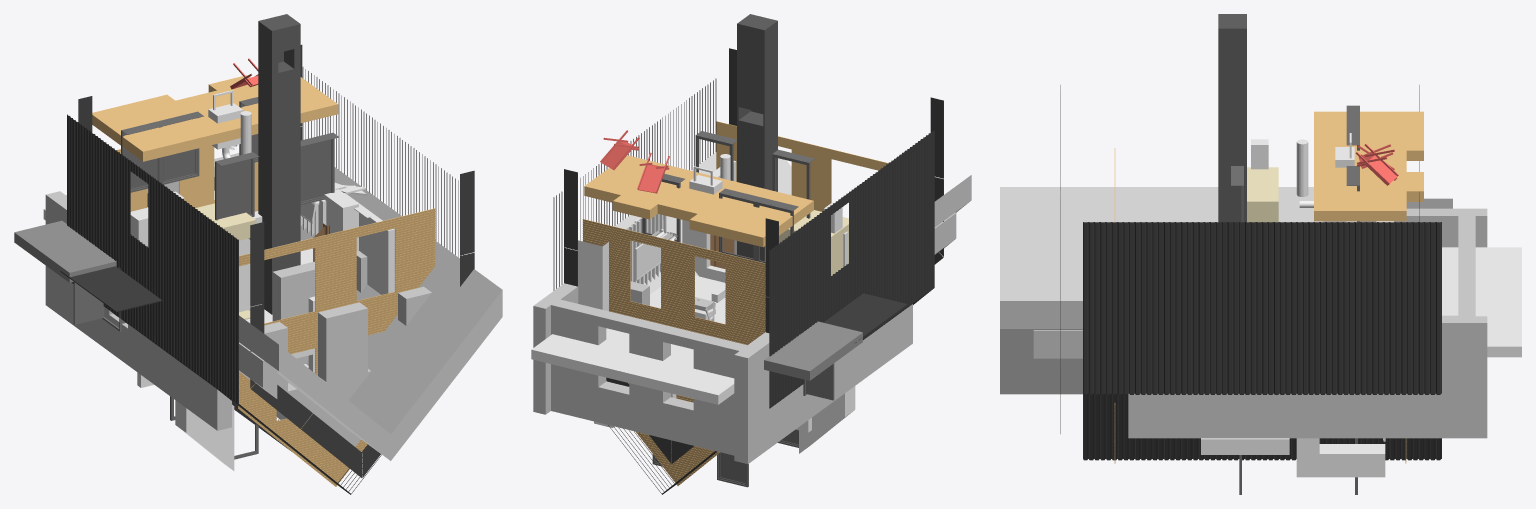
File: sceneModel.glb
The picture shows the model from 3 angles, left to right: view 1: azimuth 30°, elevation 25°; view 2: azimuth 150°, elevation 25°; view 3: azimuth 270°, elevation 25°; orthographic projection. The views are drawn at different scales.
Parts seen in each view (by area): view 1: 99260302-b0a7-456f-85a6-fb982b88d1a1-mesh, 0197eafc-e0ff-4db0-b68a-3e2a630b7ba2-mesh, c4d5aaa9-8ef5-4154-a091-b7c374bec363-mesh, 532b09c1-0b94-4078-bb71-db59570a901e-mesh, 7a5df23f-b428-478b-bbaa-a96873e01a14-mesh, b4df87d6-3772-4753-9082-eddefc3663ae-mesh, 3f2d3408-c7ef-4b01-b802-100f06b8bb19-mesh, 537720ed-e754-4e56-968a-f27afc7a2a49-mesh, 4531894a-d4ad-48d6-9331-40f6b8a79a5e-mesh, 868a3703-1643-471e-8c52-c947335a4aea-mesh, a4a708a8-24d3-4564-8d3f-7106817e1c34-mesh, 4e35cf4d-0585-422a-a061-535be9715bb8-mesh (+9 smaller); view 2: 7a5df23f-b428-478b-bbaa-a96873e01a14-mesh, 99260302-b0a7-456f-85a6-fb982b88d1a1-mesh, c4d5aaa9-8ef5-4154-a091-b7c374bec363-mesh, b4df87d6-3772-4753-9082-eddefc3663ae-mesh, dc739e76-78ab-4a7e-ad85-1664fc1bd726-mesh, 532b09c1-0b94-4078-bb71-db59570a901e-mesh, 537720ed-e754-4e56-968a-f27afc7a2a49-mesh, 4531894a-d4ad-48d6-9331-40f6b8a79a5e-mesh, 7efd10e4-09fc-4e95-b722-4bcb99865384-mesh, 0197eafc-e0ff-4db0-b68a-3e2a630b7ba2-mesh, 27c6b3f6-3c7f-4ba3-8d3f-d47aff3312a7-mesh, 49c594ff-f3fa-475c-b873-3ce18c31230c-mesh (+11 smaller); view 3: 99260302-b0a7-456f-85a6-fb982b88d1a1-mesh, 7a5df23f-b428-478b-bbaa-a96873e01a14-mesh, 0197eafc-e0ff-4db0-b68a-3e2a630b7ba2-mesh, b4df87d6-3772-4753-9082-eddefc3663ae-mesh, dc739e76-78ab-4a7e-ad85-1664fc1bd726-mesh, 532b09c1-0b94-4078-bb71-db59570a901e-mesh, 598083f2-f907-4d4f-aaf4-7f4c93f8e23d-mesh, 3f2d3408-c7ef-4b01-b802-100f06b8bb19-mesh, 2fb21d22-86b5-445f-943f-b92c821052a9-mesh, 5decc759-4af7-4a3a-9977-9a8749e82488-mesh, 24495cec-ef7e-4894-b98d-dda111cccf1a-mesh, d26a2b7e-b58b-46eb-a002-c43009cda0d6-mesh (+1 smaller).
Part boxes in pixels (x1,y1,x2,y2): 99260302-b0a7-456f-85a6-fb982b88d1a1-mesh: [67, 67, 463, 494]; 0197eafc-e0ff-4db0-b68a-3e2a630b7ba2-mesh: [239, 167, 502, 460]; c4d5aaa9-8ef5-4154-a091-b7c374bec363-mesh: [116, 145, 435, 486]; 532b09c1-0b94-4078-bb71-db59570a901e-mesh: [258, 14, 300, 314]; 7a5df23f-b428-478b-bbaa-a96873e01a14-mesh: [45, 153, 367, 430]; b4df87d6-3772-4753-9082-eddefc3663ae-mesh: [92, 75, 338, 161]; 3f2d3408-c7ef-4b01-b802-100f06b8bb19-mesh: [239, 286, 431, 446]; 537720ed-e754-4e56-968a-f27afc7a2a49-mesh: [78, 44, 474, 477]; 4531894a-d4ad-48d6-9331-40f6b8a79a5e-mesh: [14, 220, 116, 282]; 868a3703-1643-471e-8c52-c947335a4aea-mesh: [239, 193, 394, 312]; a4a708a8-24d3-4564-8d3f-7106817e1c34-mesh: [121, 111, 203, 192]; 4e35cf4d-0585-422a-a061-535be9715bb8-mesh: [215, 152, 259, 220]; 7a5df23f-b428-478b-bbaa-a96873e01a14-mesh: [533, 283, 912, 463]; 99260302-b0a7-456f-85a6-fb982b88d1a1-mesh: [553, 78, 934, 494]; c4d5aaa9-8ef5-4154-a091-b7c374bec363-mesh: [582, 121, 888, 485]; b4df87d6-3772-4753-9082-eddefc3663ae-mesh: [584, 155, 813, 247]; dc739e76-78ab-4a7e-ad85-1664fc1bd726-mesh: [531, 275, 734, 404]; 532b09c1-0b94-4078-bb71-db59570a901e-mesh: [737, 14, 777, 261]; 537720ed-e754-4e56-968a-f27afc7a2a49-mesh: [564, 48, 943, 463]; 4531894a-d4ad-48d6-9331-40f6b8a79a5e-mesh: [764, 321, 862, 380]; 7efd10e4-09fc-4e95-b722-4bcb99865384-mesh: [578, 214, 666, 311]; 0197eafc-e0ff-4db0-b68a-3e2a630b7ba2-mesh: [615, 152, 971, 294]; 27c6b3f6-3c7f-4ba3-8d3f-d47aff3312a7-mesh: [823, 293, 907, 342]; 49c594ff-f3fa-475c-b873-3ce18c31230c-mesh: [799, 386, 855, 453]; 99260302-b0a7-456f-85a6-fb982b88d1a1-mesh: [1083, 222, 1441, 460]; 7a5df23f-b428-478b-bbaa-a96873e01a14-mesh: [1128, 208, 1487, 438]; 0197eafc-e0ff-4db0-b68a-3e2a630b7ba2-mesh: [1000, 187, 1356, 394]; b4df87d6-3772-4753-9082-eddefc3663ae-mesh: [1314, 111, 1423, 221]; dc739e76-78ab-4a7e-ad85-1664fc1bd726-mesh: [1442, 247, 1521, 357]; 532b09c1-0b94-4078-bb71-db59570a901e-mesh: [1218, 14, 1246, 222]; 598083f2-f907-4d4f-aaf4-7f4c93f8e23d-mesh: [1296, 438, 1385, 477]; 3f2d3408-c7ef-4b01-b802-100f06b8bb19-mesh: [1033, 330, 1082, 366]; 2fb21d22-86b5-445f-943f-b92c821052a9-mesh: [1247, 167, 1278, 222]; 5decc759-4af7-4a3a-9977-9a8749e82488-mesh: [1201, 438, 1289, 454]; 24495cec-ef7e-4894-b98d-dda111cccf1a-mesh: [1355, 144, 1398, 185]; d26a2b7e-b58b-46eb-a002-c43009cda0d6-mesh: [1296, 139, 1308, 196].
Bounding box in the file's own units: 8.54 × 12.95 × 13.52.
